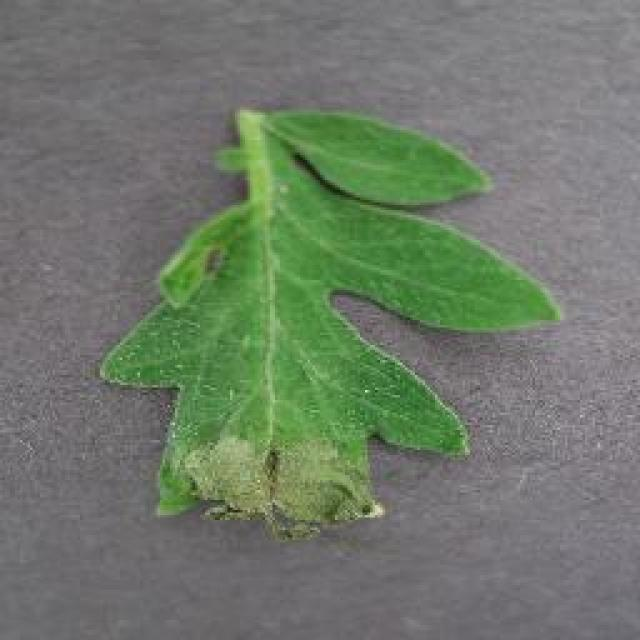Tomato late blight leaf: (98, 106, 562, 546)
